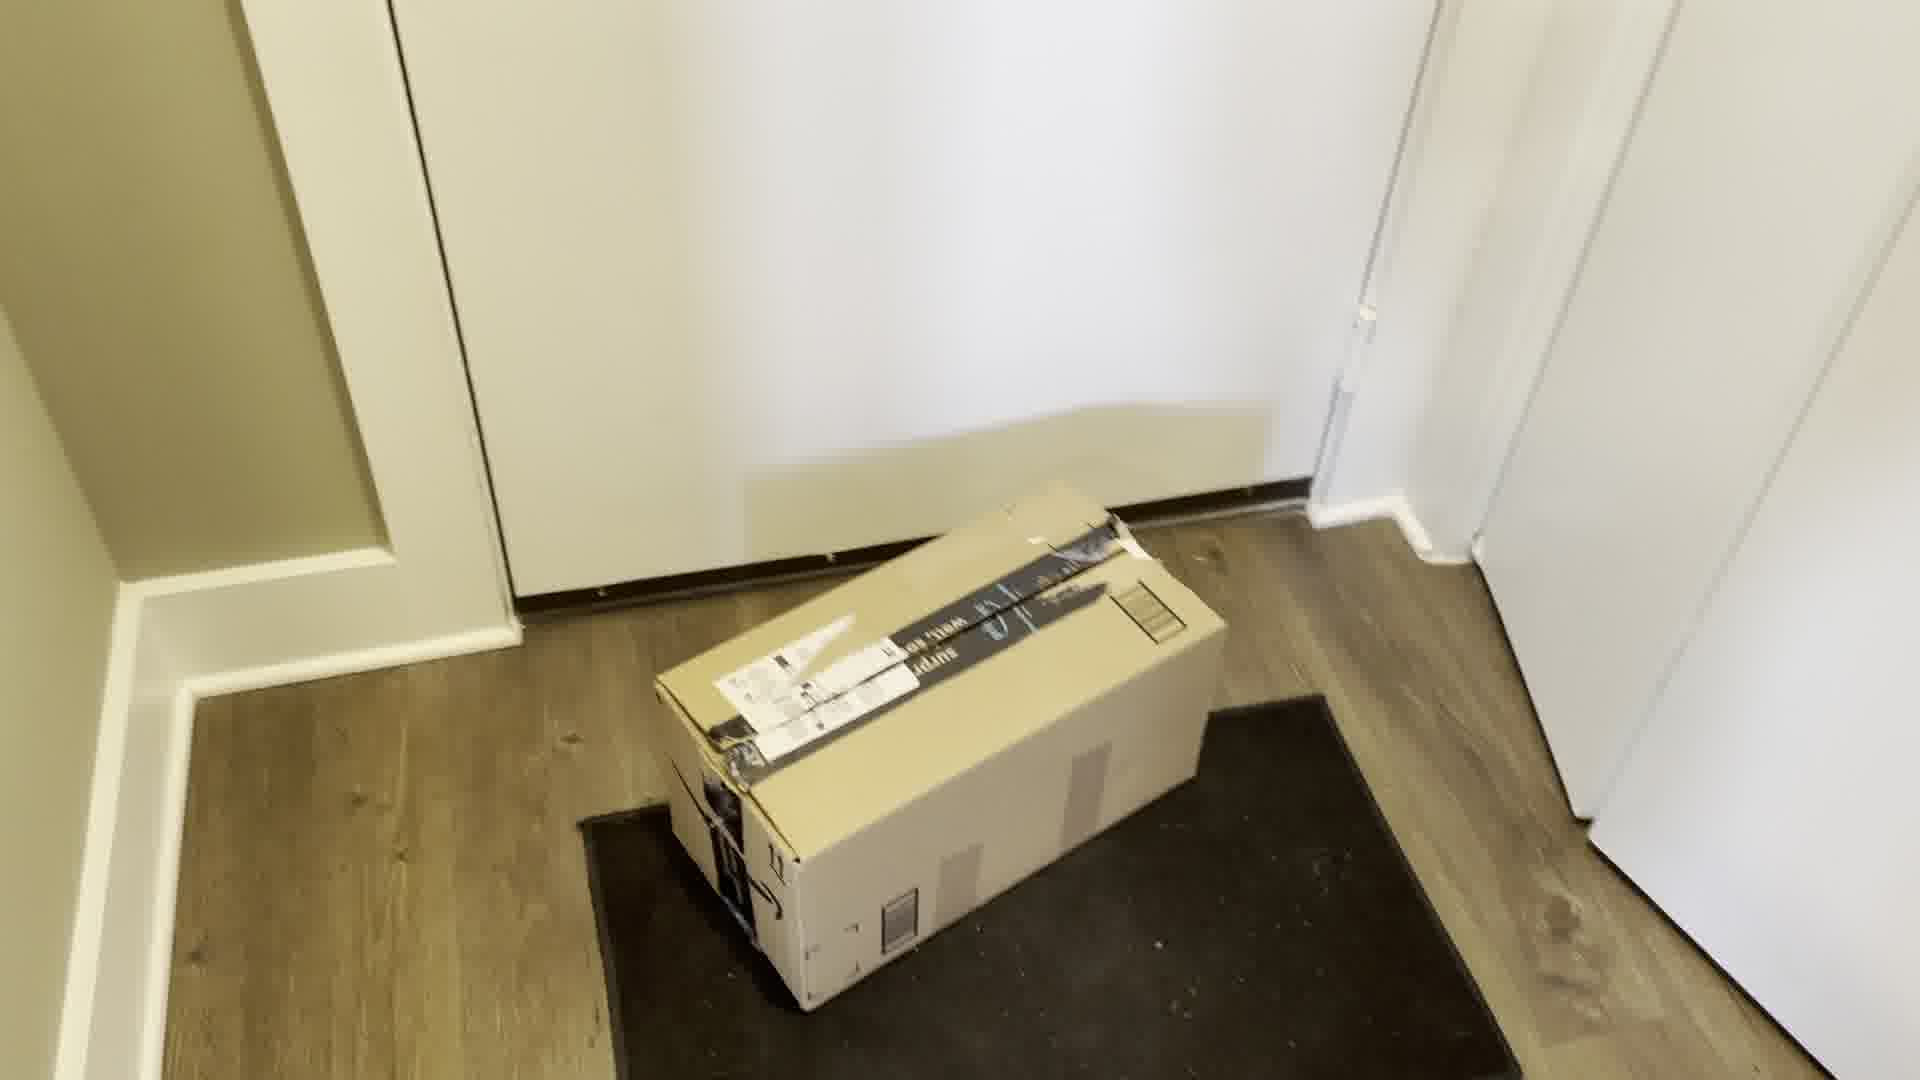box: (628, 448, 1241, 982)
